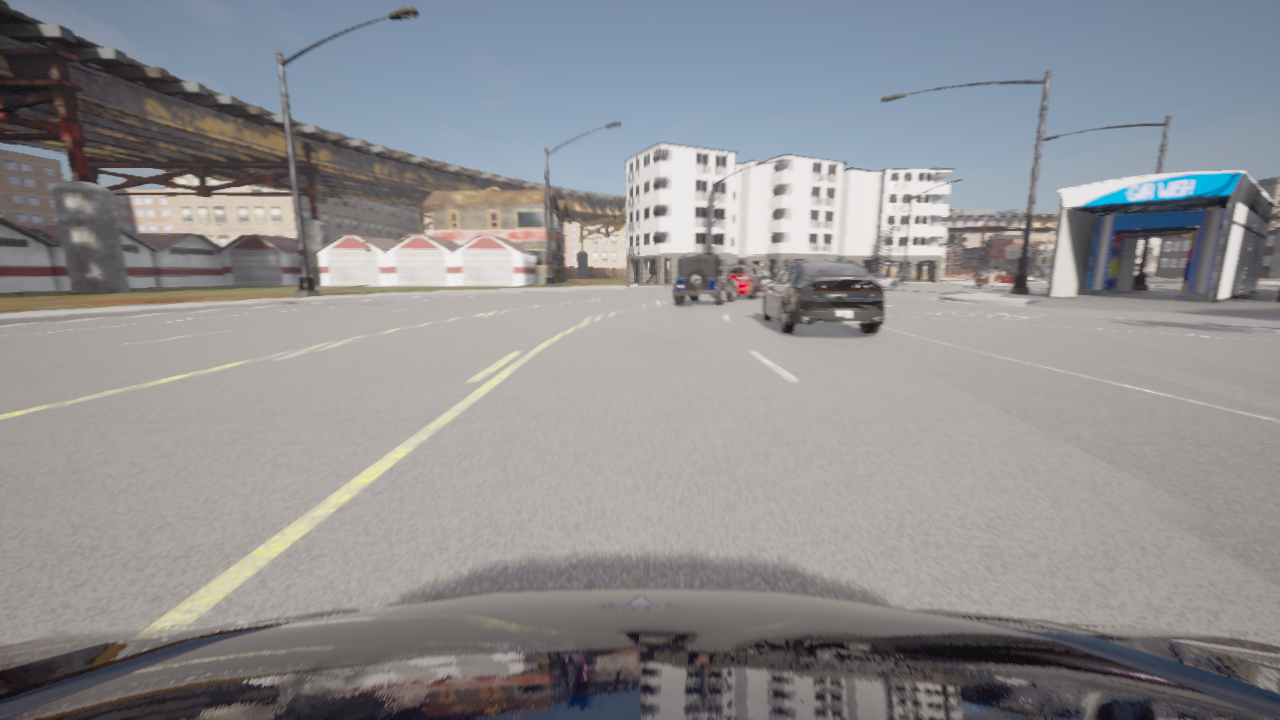cyclist: (0, 588, 1279, 719), (760, 259, 884, 333), (673, 255, 736, 305), (712, 264, 773, 298), (975, 269, 1016, 287), (869, 272, 897, 289)
